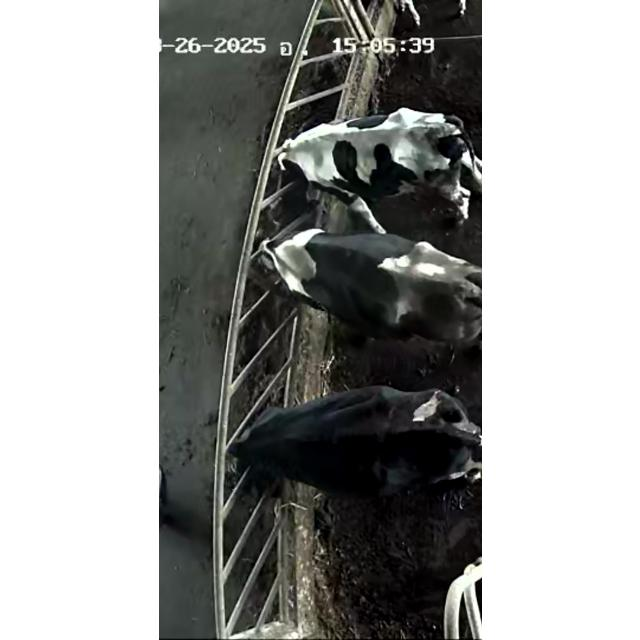eat: (237, 106, 365, 208), (186, 393, 318, 491), (220, 218, 334, 314)
